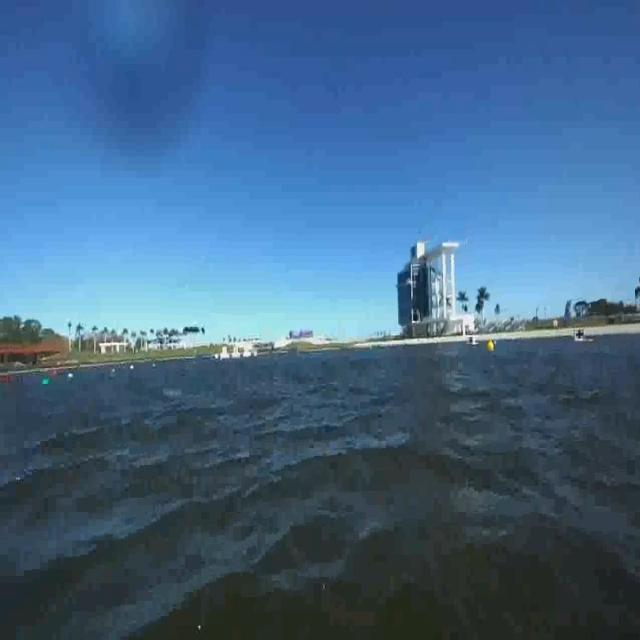green-buoy: (42, 378, 49, 388)
yellow-buoy: (487, 339, 496, 354)
